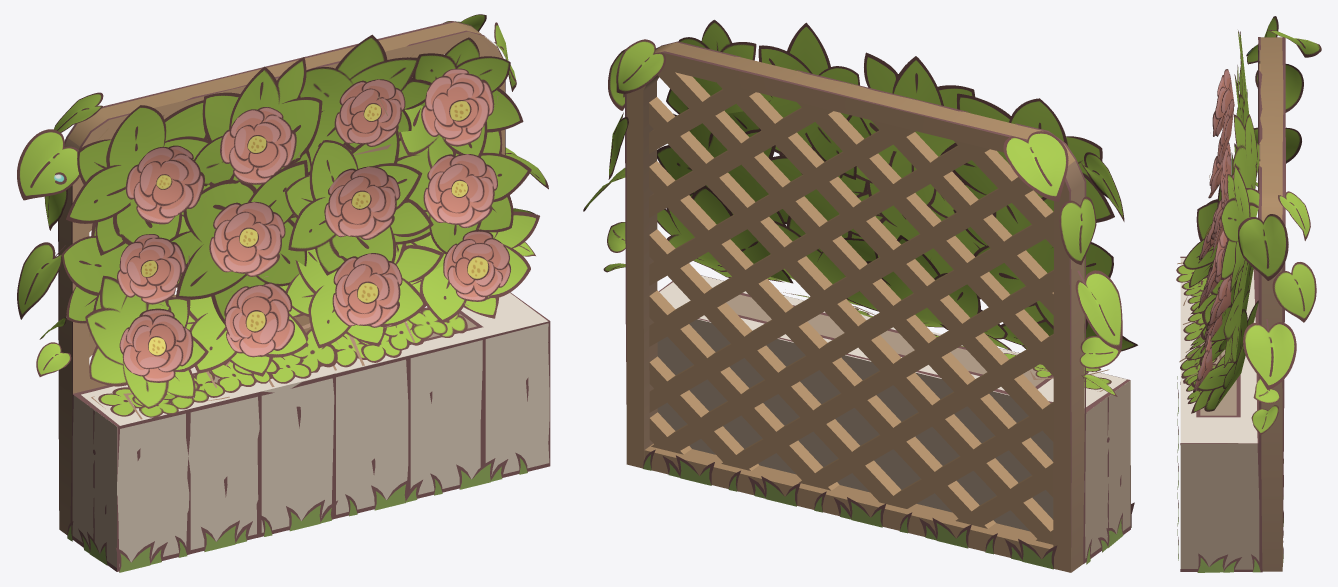
File: Mesh_Home_B_Idyll_10_SM.FBX
3 views of the same model, side by side, from view 1: azimuth 30°, elevation 25°; view 2: azimuth 150°, elevation 25°; view 3: azimuth 270°, elevation 25° (orthographic). The views are drawn at different scales.
Parts seen in each view (by area): view 1: Mesh_Home_B_Idyll_10; view 2: Mesh_Home_B_Idyll_10; view 3: Mesh_Home_B_Idyll_10.
Boxes of the visible parts, x1,y1,x2,y2 form: Mesh_Home_B_Idyll_10: (17,14,550,572); Mesh_Home_B_Idyll_10: (583,19,1137,572); Mesh_Home_B_Idyll_10: (1176,16,1321,572).
Size of the model in its own units: 242 by 197 by 67.63.
